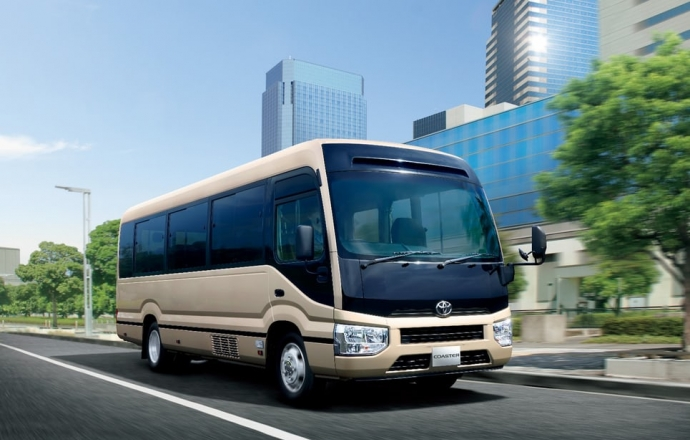bus: (116, 139, 514, 404)
